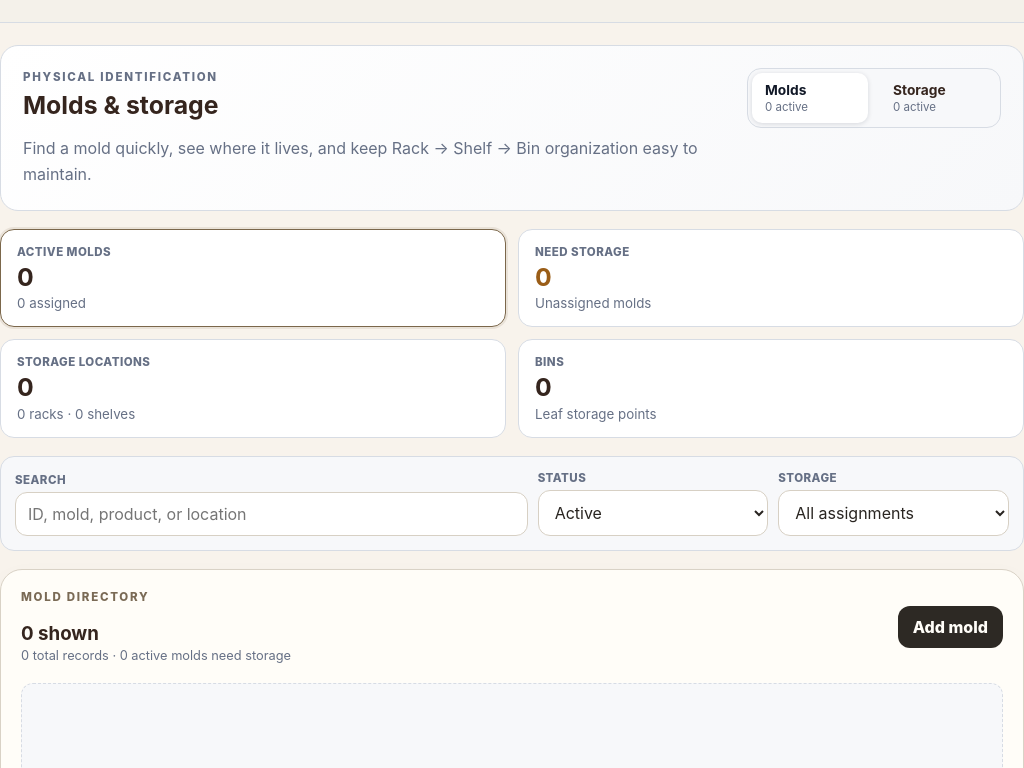
Test: PhysicalIdentificationWorkspace › keeps the mold record form in a modal instead of permanently occupying the directory
Click the button "Add mold".
click(950, 626)  # box [898, 606, 1003, 648]
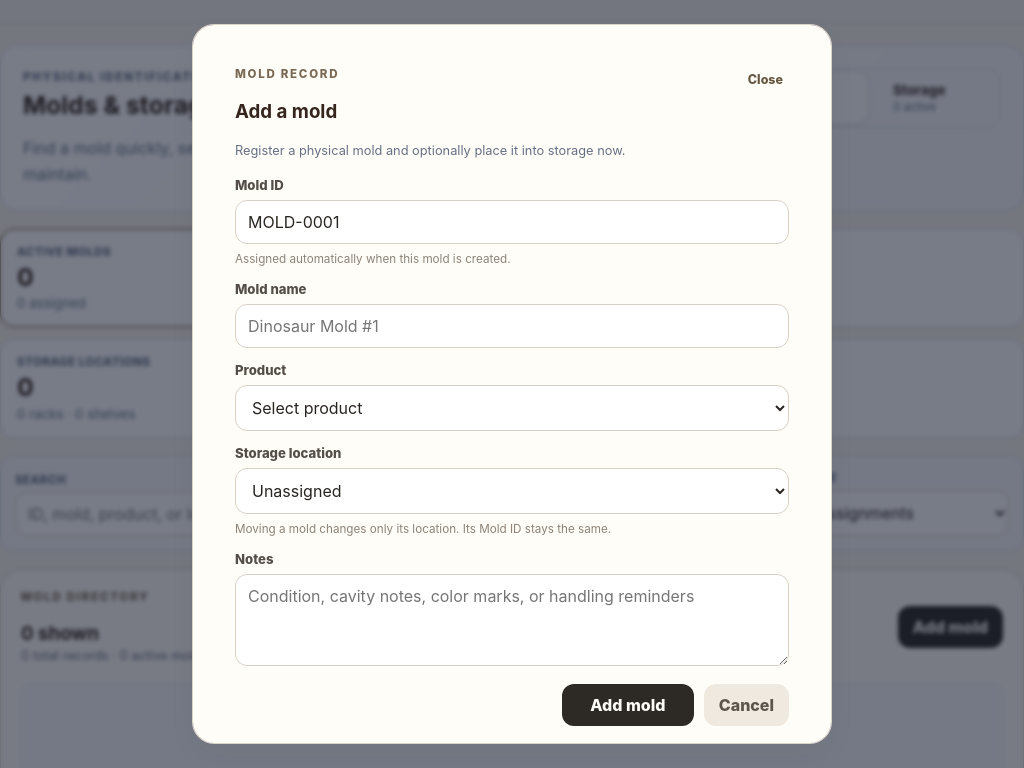
Expected: the dialog is shown, [192, 24, 832, 744]
Expected: the dialog shows "MOLD RECORD", [235, 67, 339, 81]
Expected: the dialog shows "Add a mold", [235, 100, 337, 123]
Click the button "Cancel".
click(746, 705)  # box [704, 684, 789, 726]
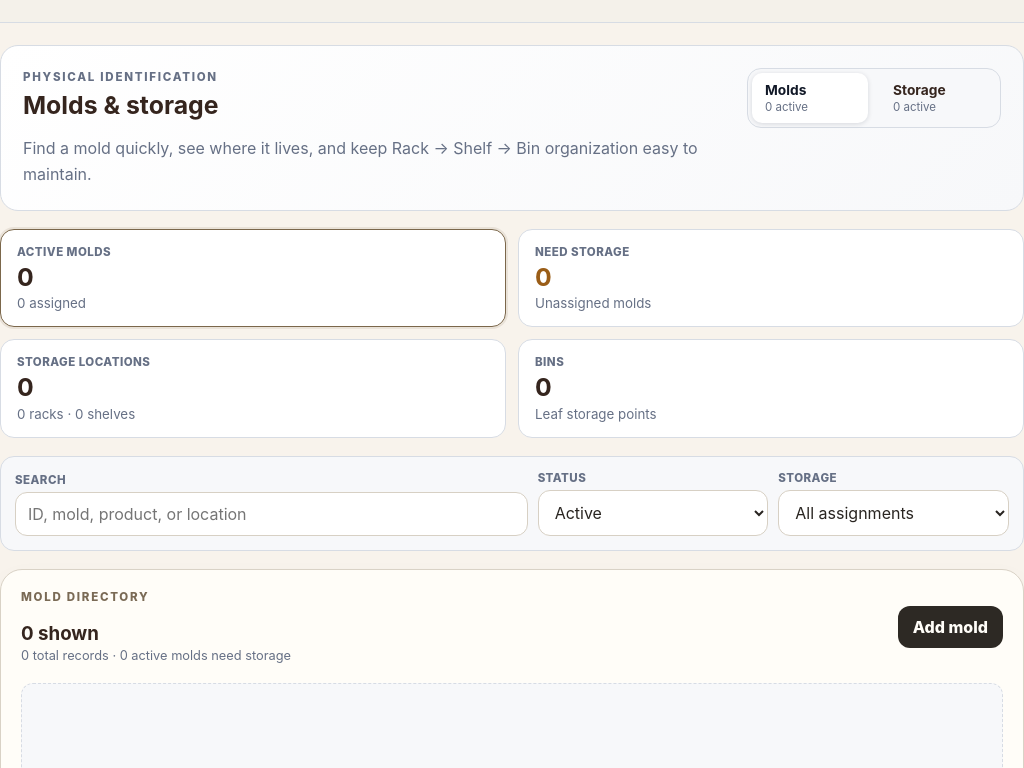
Expected: the text "MOLD DIRECTORY" is shown, [21, 590, 149, 604]
Expected: the heading "Add a mold" is gone
